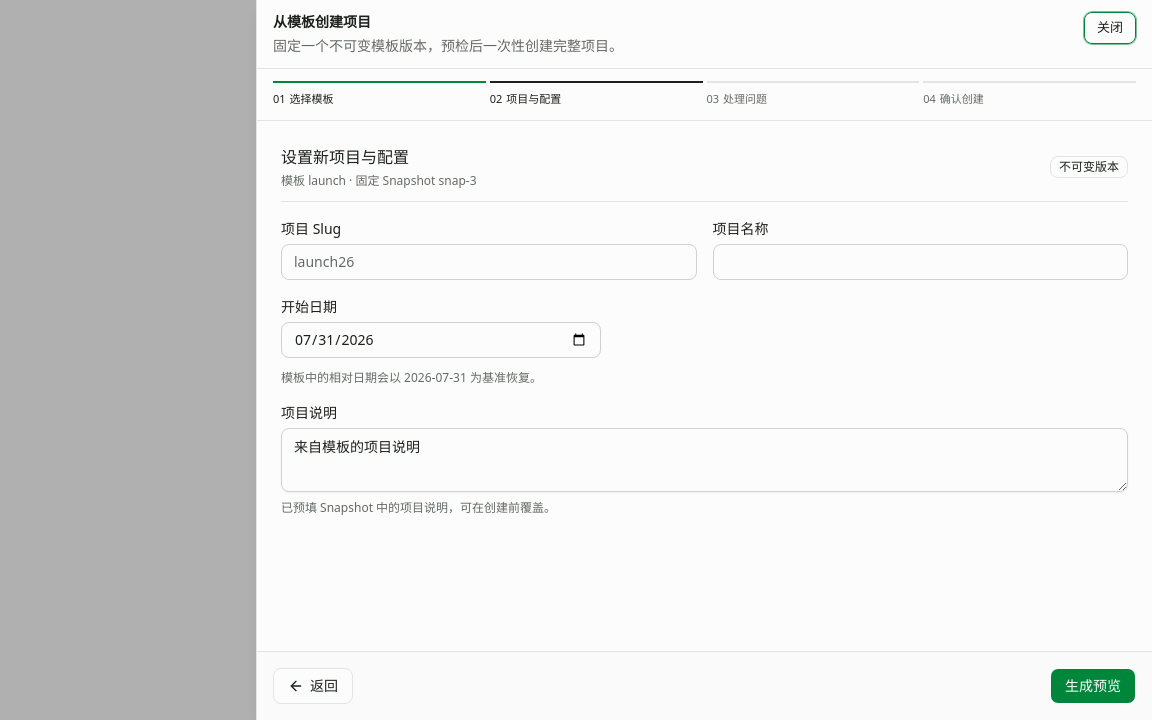
it: ProjectTemplateInstantiateWizard › returns hash drift to template selection without adopting the new version
The width and height of the screenshot is (1152, 720).
In the field labelled "项目 Slug": (489,262) 281,244 -> 696,280, type "newproj"
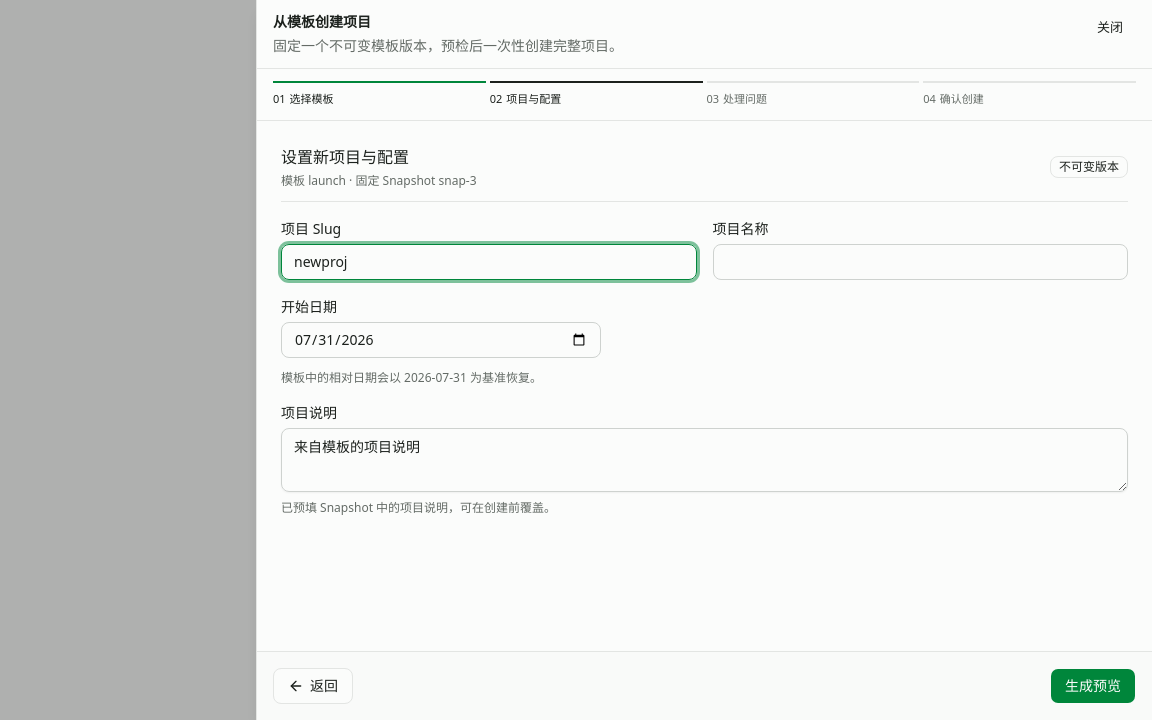
In the field labelled "项目名称": (920,262) 712,244 -> 1128,280, type "新项目"
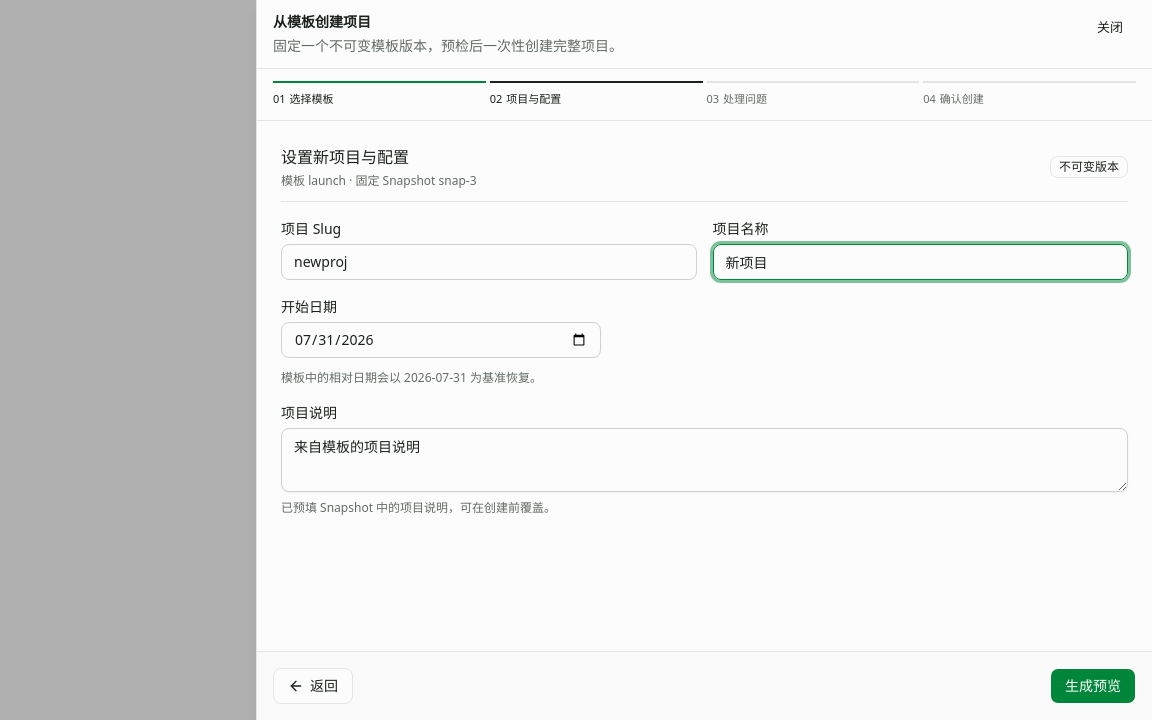
Click the button "生成预览": (1093,686) 1050,668 -> 1136,704
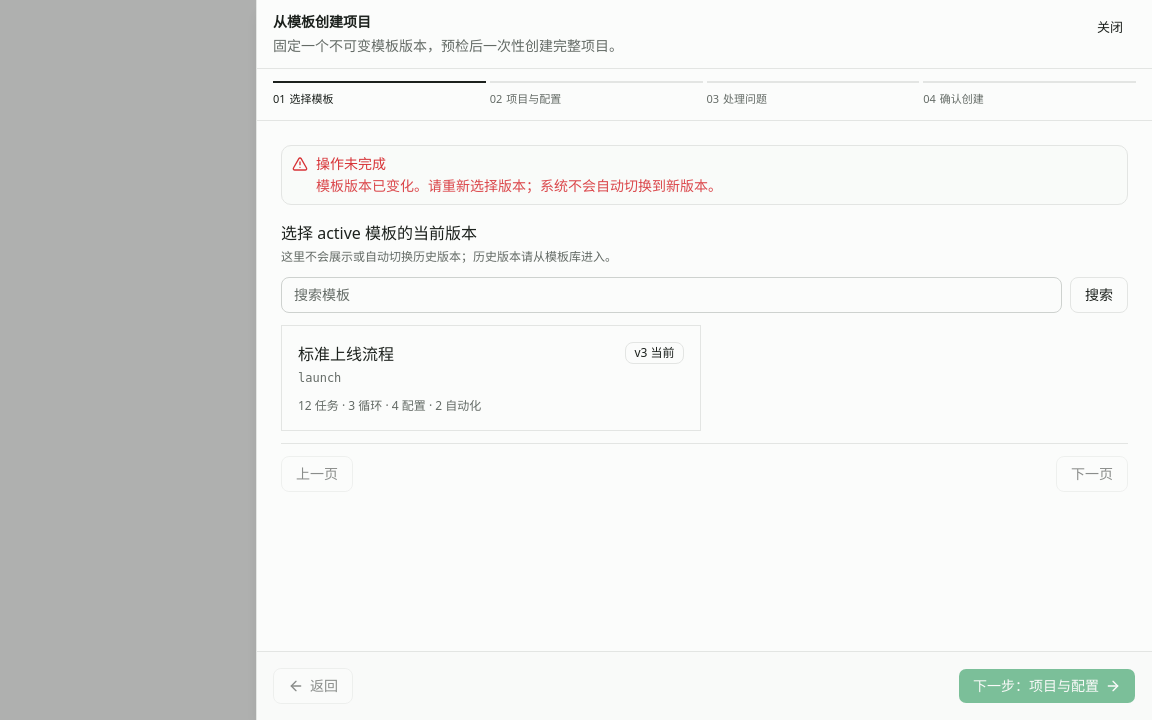
Expected: the text "模板版本已变化。请重新选择版本；系统不会自动切换到新版本。" is shown, 316,176 -> 722,194
Expected: the heading "选择 active 模板的当前版本" is shown, 281,222 -> 477,244
